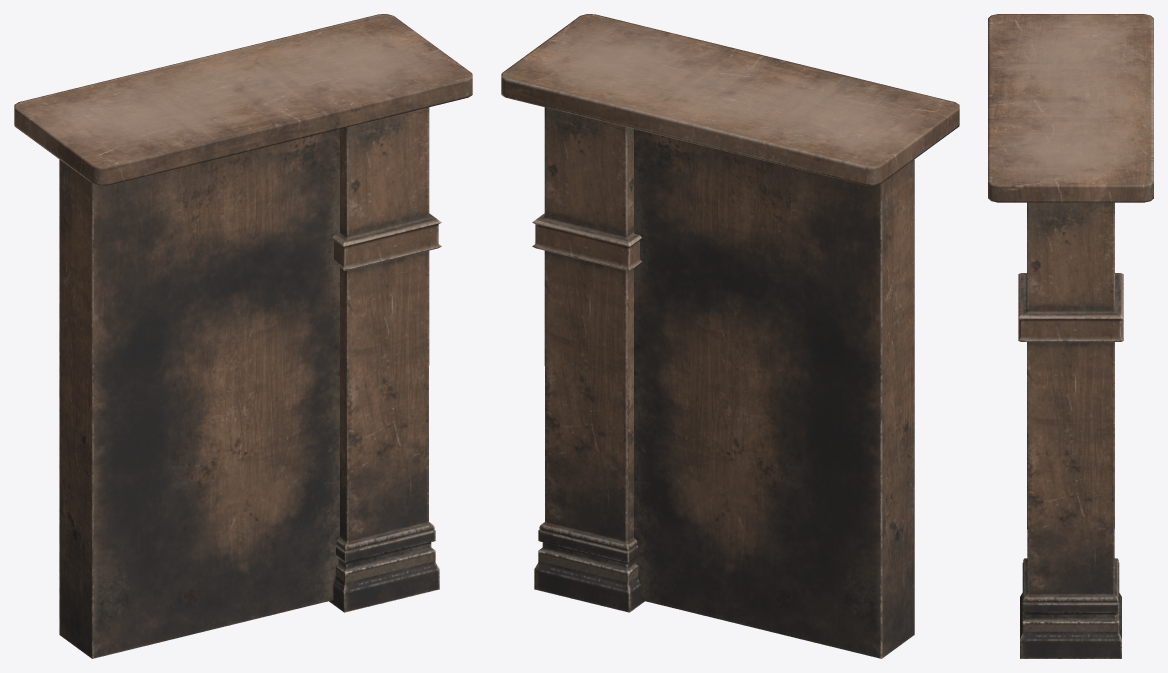
Rendered from SM_ReceptionDesk01_2_LOD0.glb.
The picture shows the model from 3 angles, left to right: view 1: azimuth 30°, elevation 25°; view 2: azimuth 150°, elevation 25°; view 3: azimuth 270°, elevation 25°; orthographic projection. The views are drawn at different scales.
Parts seen in each view (by area): view 1: SM_ReceptionDesk01_2_LOD0; view 2: SM_ReceptionDesk01_2_LOD0; view 3: SM_ReceptionDesk01_2_LOD0.
Part boxes in pixels (x1,y1,x2,y2): SM_ReceptionDesk01_2_LOD0: (14,14,472,658); SM_ReceptionDesk01_2_LOD0: (501,14,959,658); SM_ReceptionDesk01_2_LOD0: (988,14,1153,658).
Bounding box in the file's own units: 1.02 × 1.33 × 0.4141.
1 material, 1 textured.
